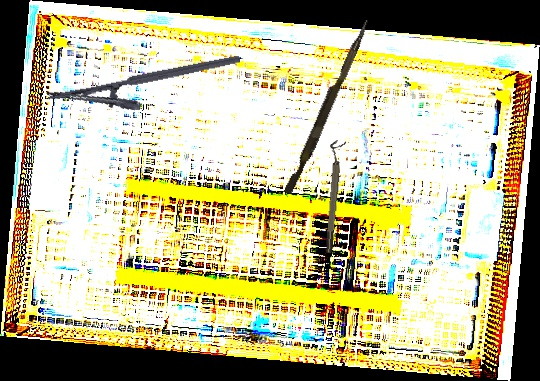Fixation Ring: (319, 139, 346, 254)
Needle Holder: (46, 53, 246, 128)
Pusher: (283, 16, 371, 197)
